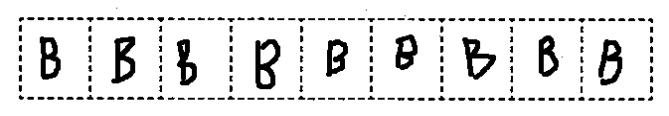B: (457, 32, 501, 84), (589, 33, 629, 90), (249, 35, 284, 93), (170, 34, 206, 90), (31, 30, 68, 83), (530, 29, 563, 81), (109, 34, 140, 88), (390, 29, 426, 75), (320, 32, 354, 80)
